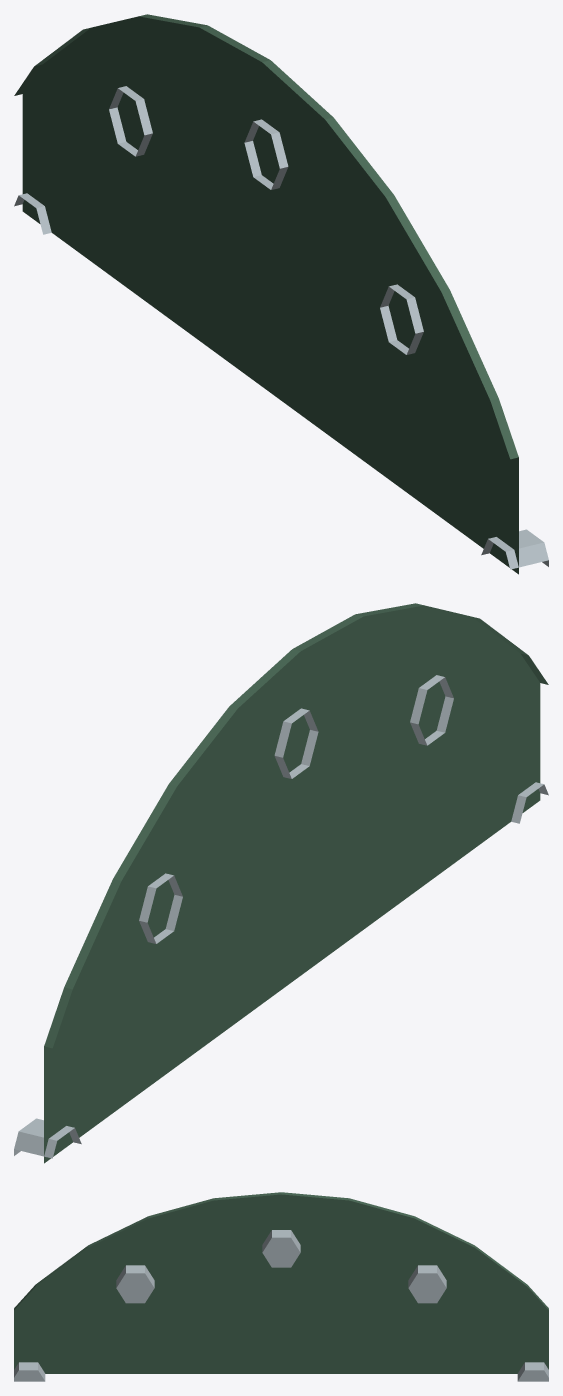
File: cell_64.obj
3 views of the same model, one above another, from view 1: azimuth 30°, elevation 25°; view 2: azimuth 150°, elevation 25°; view 3: azimuth 270°, elevation 25° (orthographic). The views are drawn at different scales.
Bounding box in the file's own units: 0.045 × 0.37 × 1.
